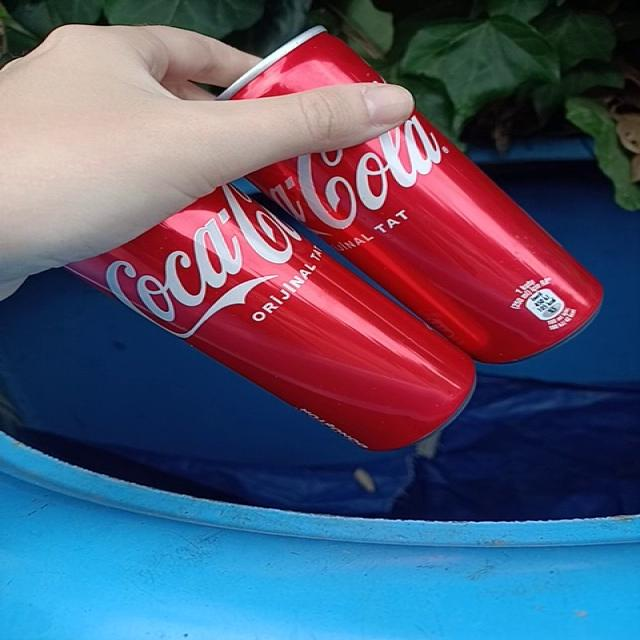metal: (67, 186, 473, 451), (249, 112, 603, 364), (223, 27, 383, 100)
